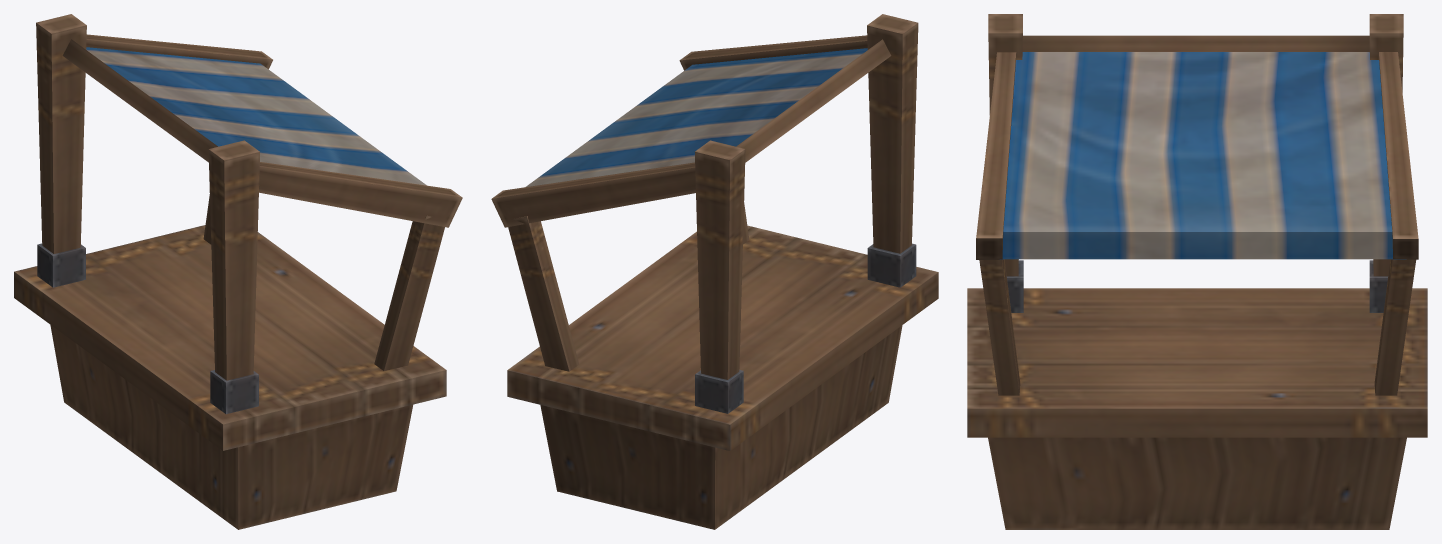
File: paran_house_store_mini_2.FBX
3 views of the same model, side by side, from view 1: azimuth 30°, elevation 25°; view 2: azimuth 150°, elevation 25°; view 3: azimuth 270°, elevation 25° (orthographic). The views are drawn at different scales.
Visible parts, largest first — view 1: Object111; view 2: Object111; view 3: Object111.
Part boxes in pixels (box(x1,y1,x2,y2)): Object111: box(14, 14, 462, 529); Object111: box(491, 14, 938, 529); Object111: box(967, 14, 1427, 529).
Size of the model in its own units: 43.22 by 64.14 by 64.44.
